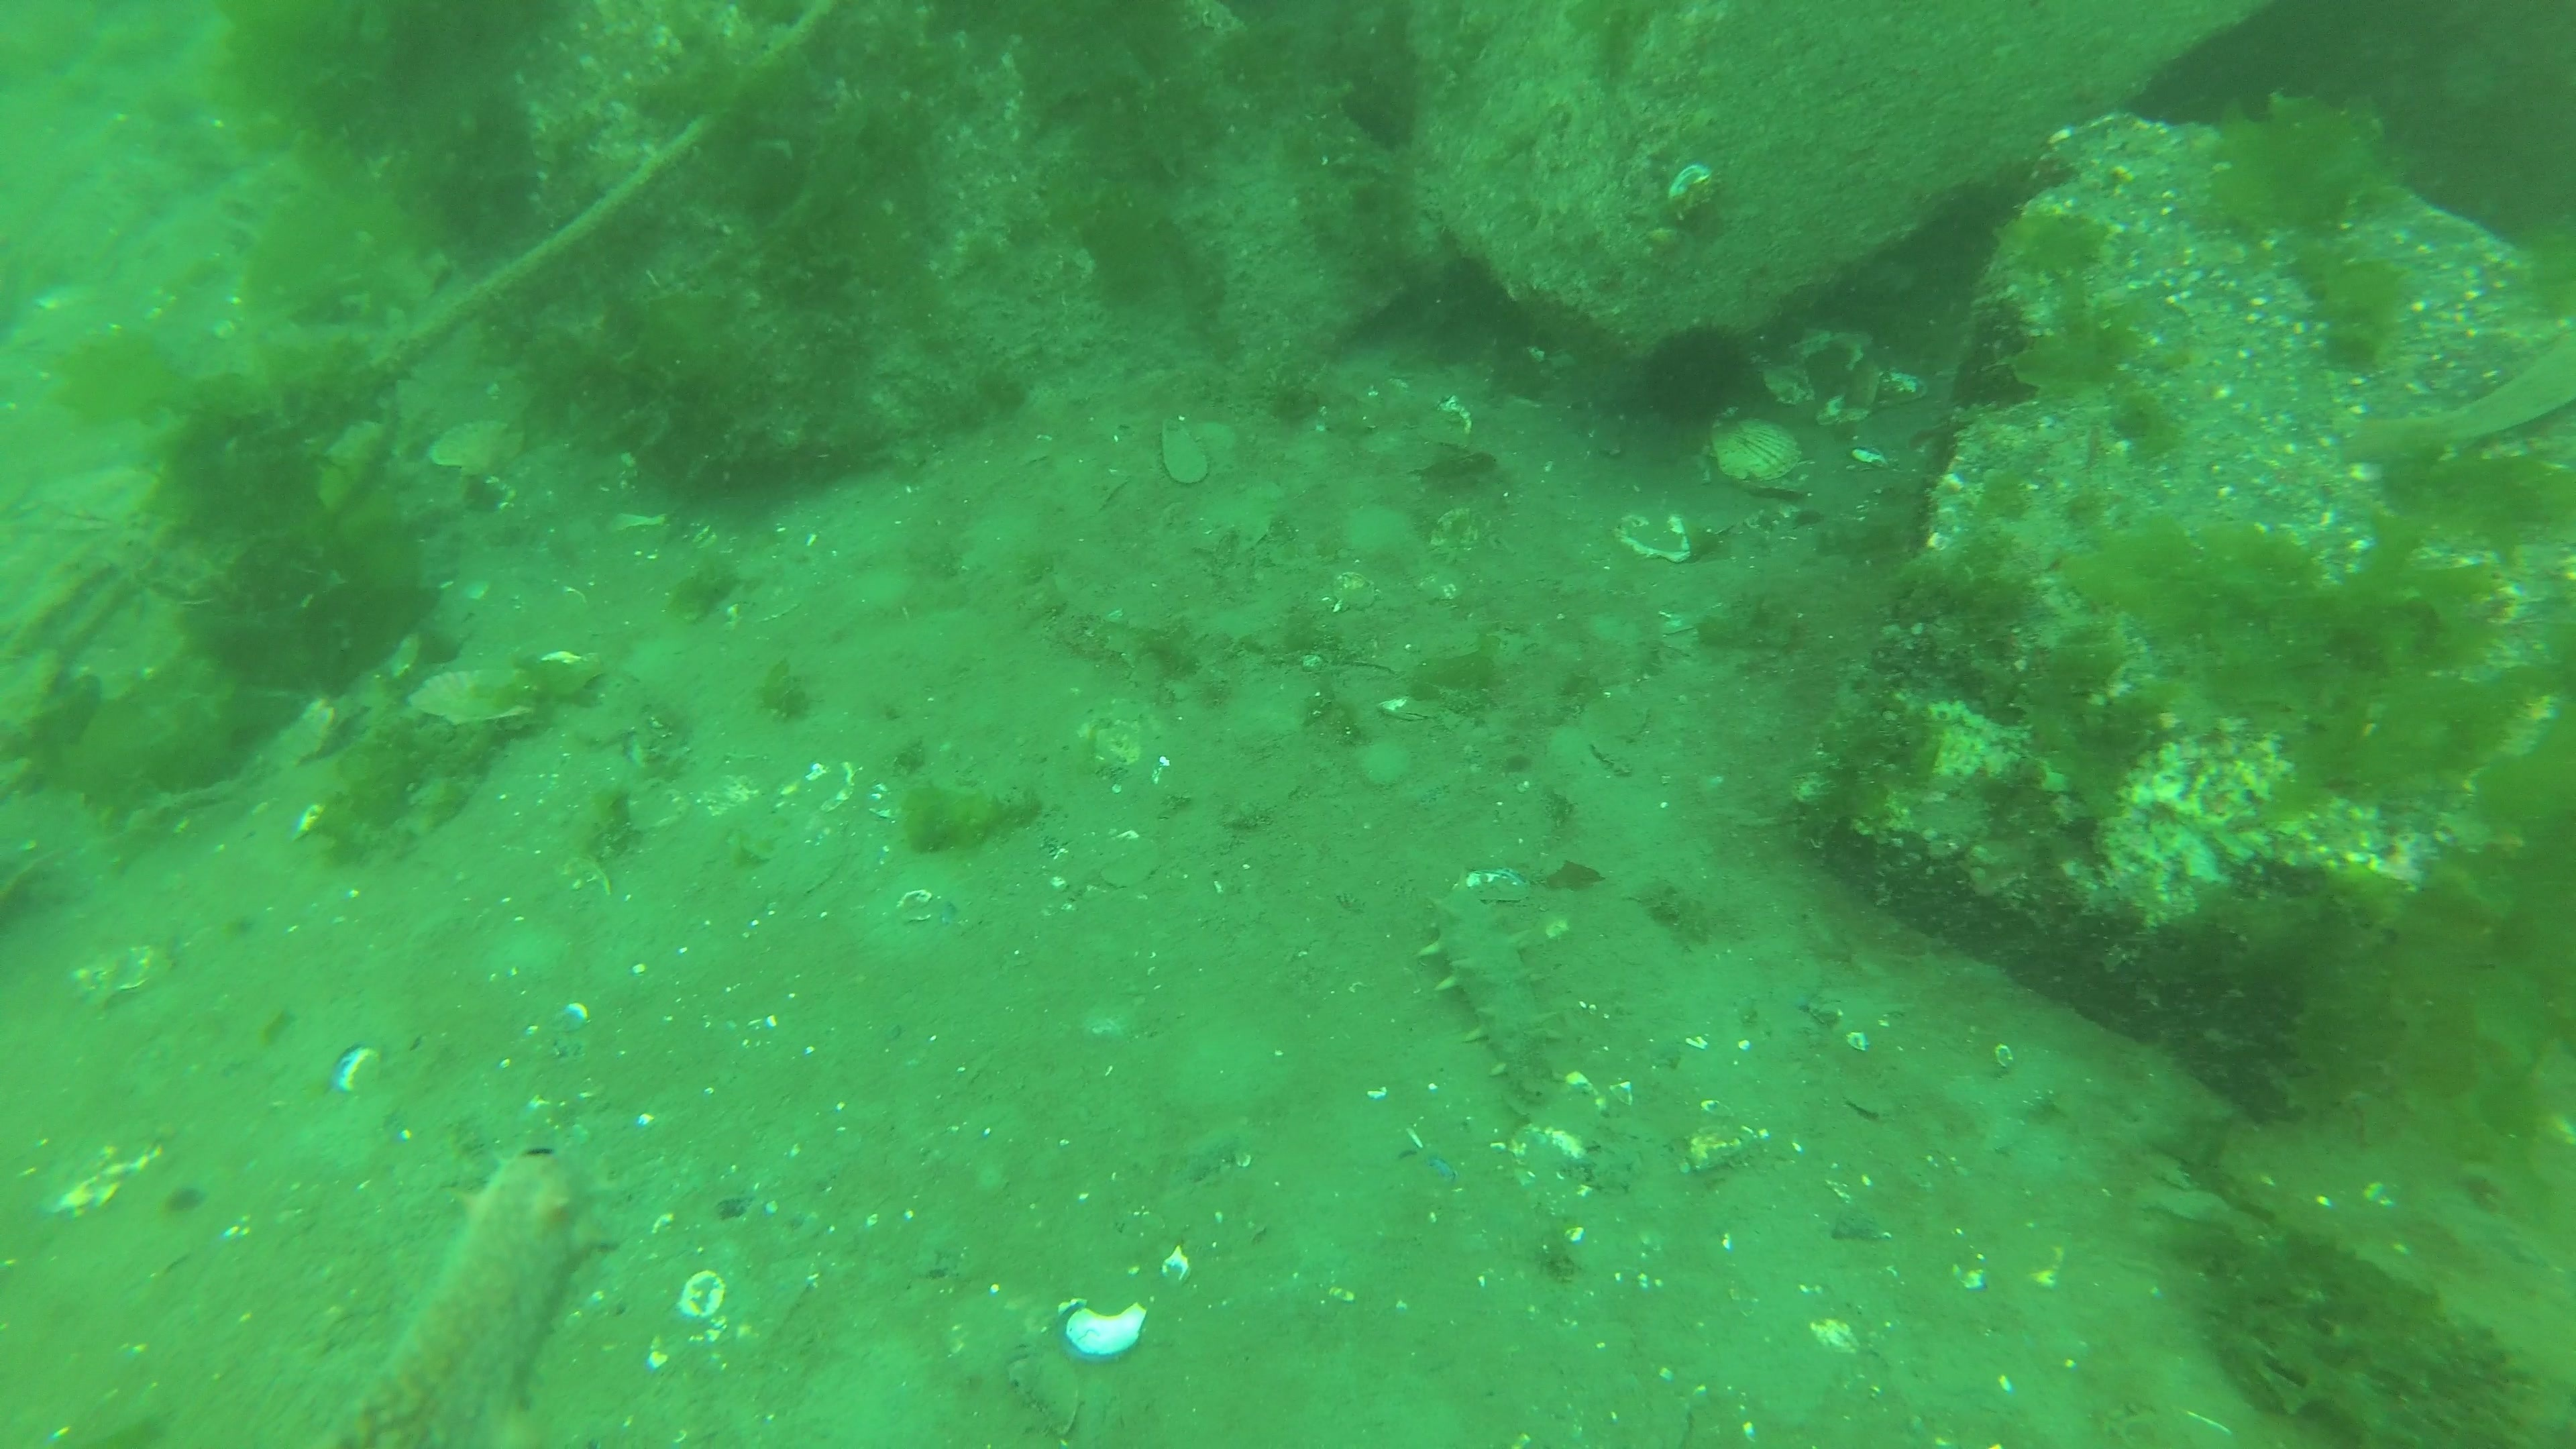holothurian: (333, 1143, 614, 1449), (1414, 862, 1566, 1090), (1635, 317, 1748, 441)
scallop: (409, 667, 543, 727), (1709, 416, 1805, 483), (430, 416, 529, 478)
